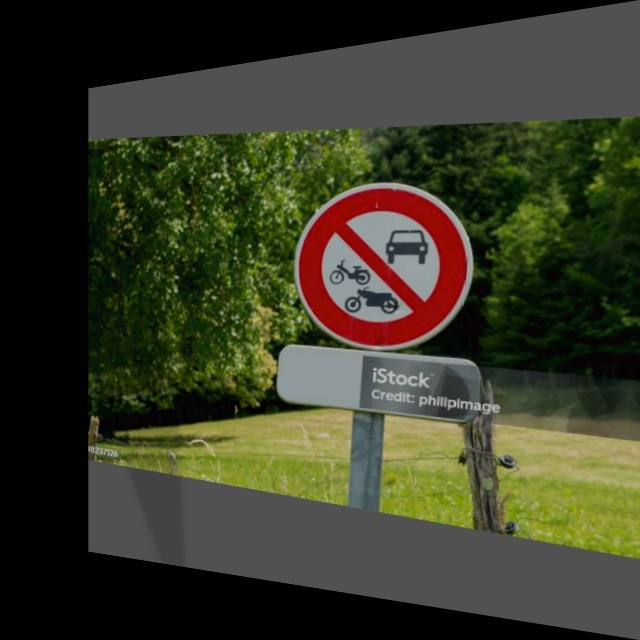All_Motor_Vehicles_Prohibited: (288, 167, 475, 357)
